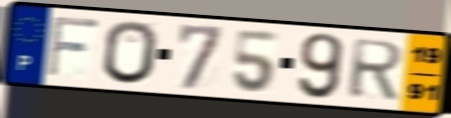5: (230, 27, 277, 96)
7: (175, 21, 226, 92)
9: (297, 31, 346, 102)
F: (45, 14, 103, 80)
O: (102, 18, 160, 87)
R: (346, 37, 407, 101)
